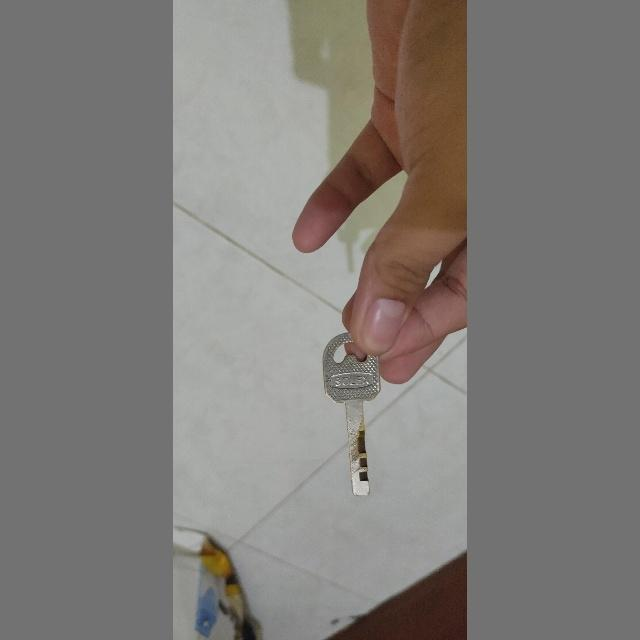Keys: (320, 324, 388, 512)
